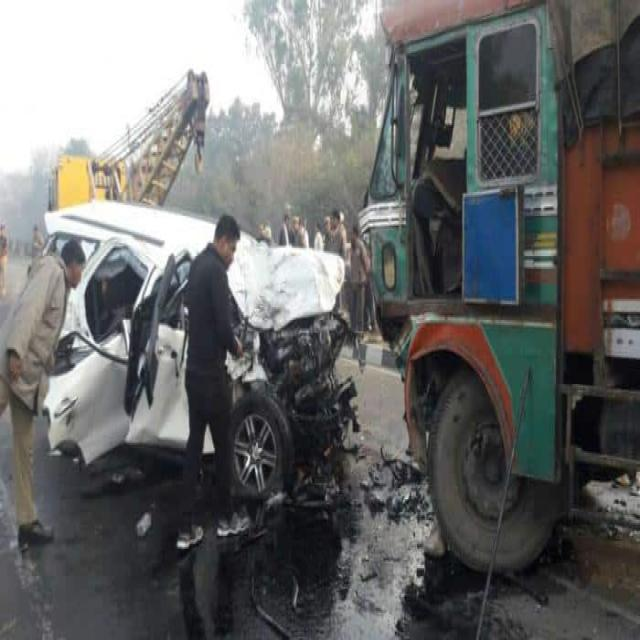accident: (44, 201, 214, 464)
